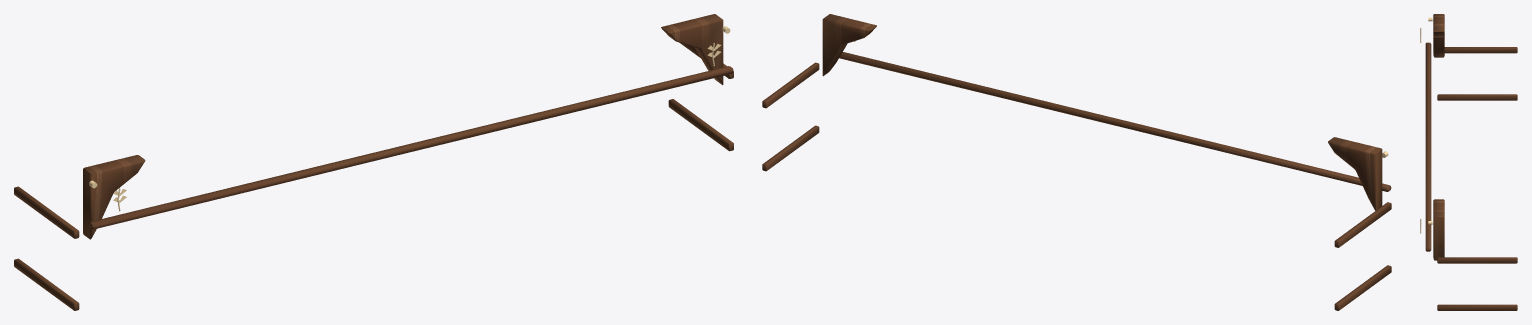
File: CM_LI03_WorkbenchJoinery.fbx
3 views of the same model, side by side, from view 1: azimuth 30°, elevation 25°; view 2: azimuth 150°, elevation 25°; view 3: azimuth 270°, elevation 25° (orthographic). The views are drawn at different scales.
Visible parts, largest first — view 1: CM_LI03_WorkbenchJoinery; view 2: CM_LI03_WorkbenchJoinery; view 3: CM_LI03_WorkbenchJoinery.
Part boxes in pixels (x1,y1,x2,y2): CM_LI03_WorkbenchJoinery: (14, 14, 733, 310); CM_LI03_WorkbenchJoinery: (762, 14, 1391, 310); CM_LI03_WorkbenchJoinery: (1420, 14, 1517, 310).
Size of the model in its own units: 3.07 by 0.6075 by 0.594.
